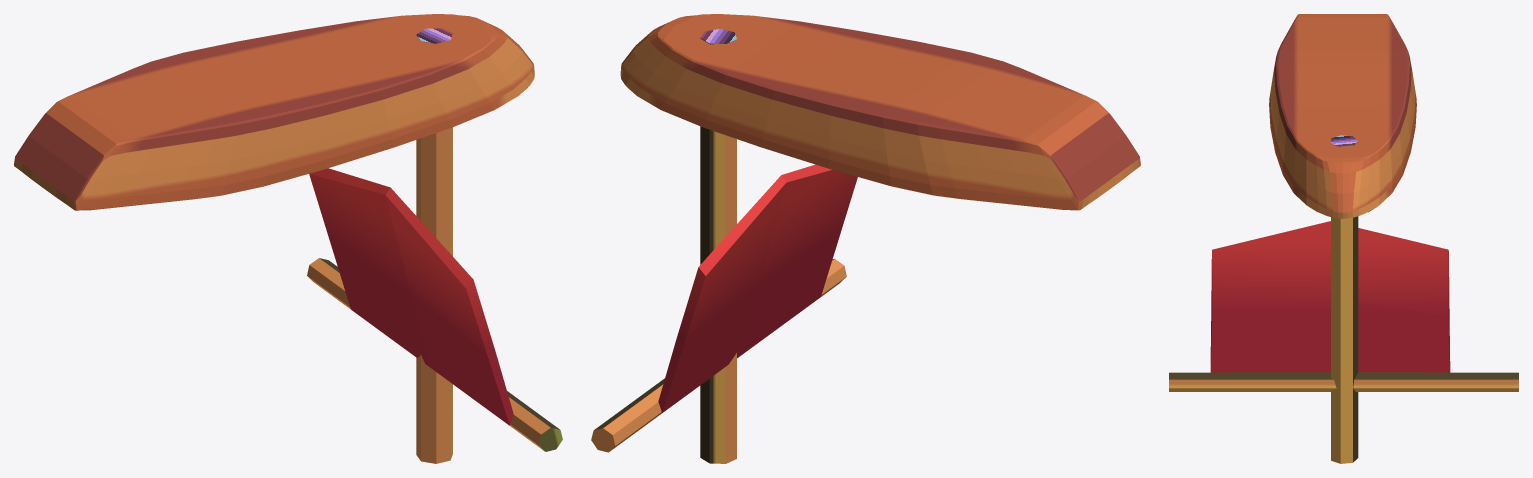
File: ship2.fbx
The picture shows the model from 3 angles, left to right: view 1: azimuth 30°, elevation 25°; view 2: azimuth 150°, elevation 25°; view 3: azimuth 270°, elevation 25°; orthographic projection. The views are drawn at different scales.
Visible parts, largest first — view 1: Cube; view 2: Cube; view 3: Cube.
Boxes of the visible parts, x1,y1,x2,y2 form: Cube: (14,14,562,463); Cube: (591,14,1140,463); Cube: (1169,14,1518,463).
Bounding box in the file's own units: 599 × 496 × 492.
Materials: 1 (1 with a texture image).
